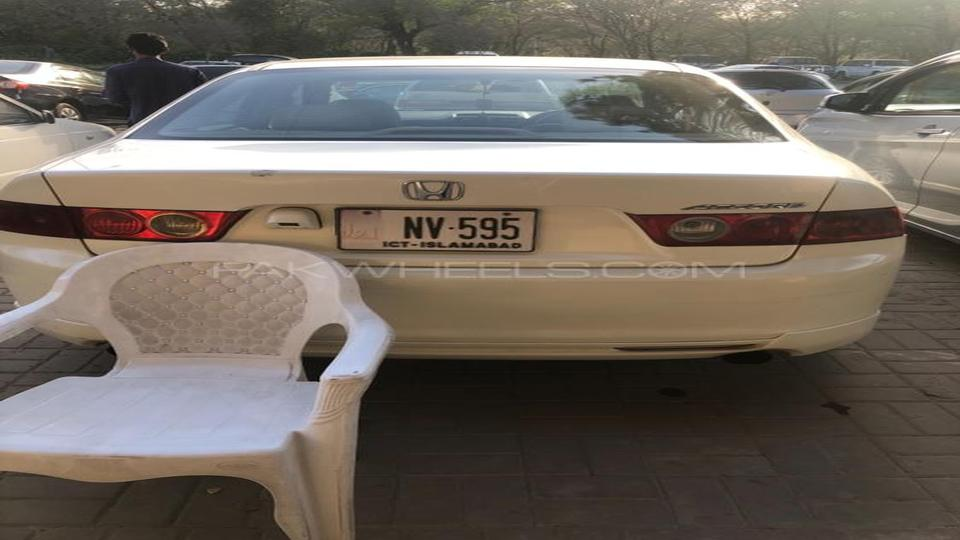NumberPlate: (335, 205, 547, 262)
